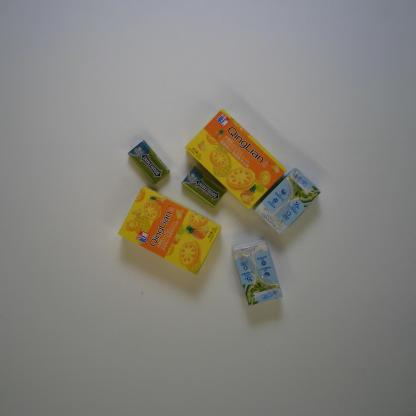Dessert: (184, 107, 286, 210), (117, 186, 222, 276)
Gum: (127, 139, 171, 186), (180, 166, 226, 208)
Milk: (253, 167, 322, 237), (231, 239, 285, 308)
